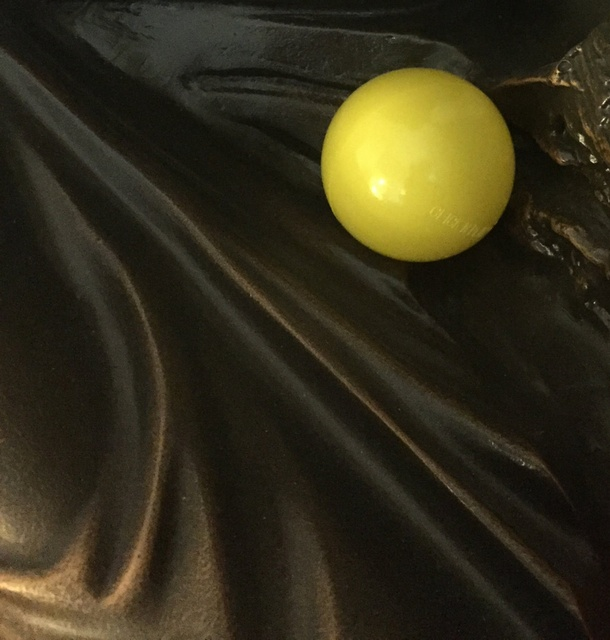ball: (318, 67, 517, 265)
